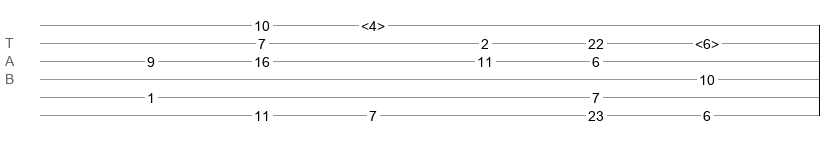1: (147, 90, 155, 100)
10: (254, 18, 270, 28), (699, 72, 715, 82)
11: (254, 108, 270, 118), (477, 54, 493, 64)
16: (254, 54, 270, 64)
2: (481, 36, 489, 46)
22: (588, 36, 604, 46)
23: (588, 108, 604, 118)
6: (592, 54, 600, 64), (703, 108, 711, 118)
7: (258, 36, 266, 46), (369, 108, 377, 118), (592, 90, 600, 100)
9: (147, 54, 155, 64)
harmonic: (361, 18, 385, 28), (695, 36, 719, 46)
